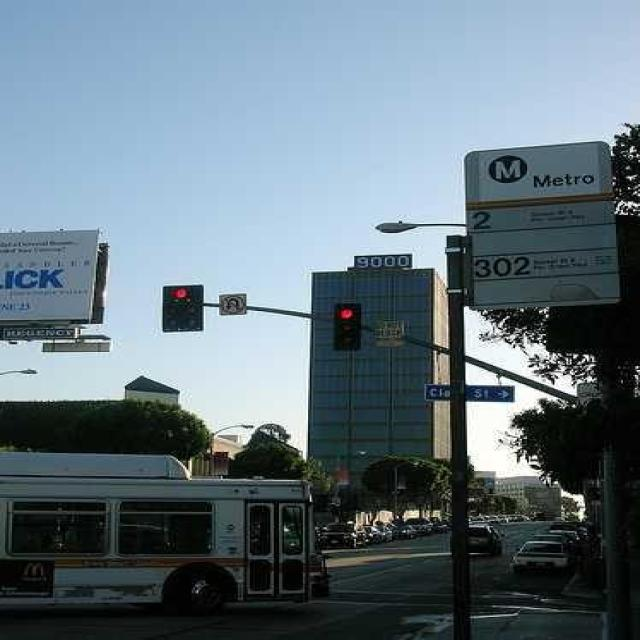Traffic Light -Red-: (160, 283, 208, 334), (336, 304, 354, 350)
